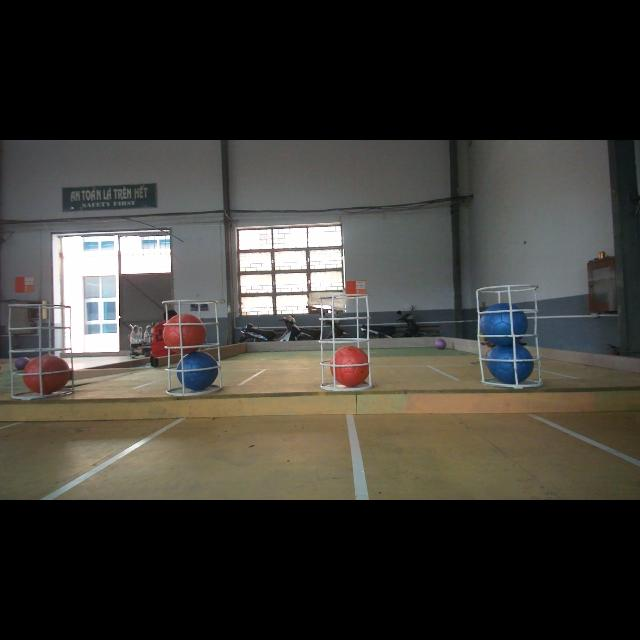B: (480, 304, 528, 346), (486, 344, 534, 384), (176, 351, 218, 391)
R: (24, 354, 72, 394), (162, 314, 205, 354), (330, 346, 370, 386)
